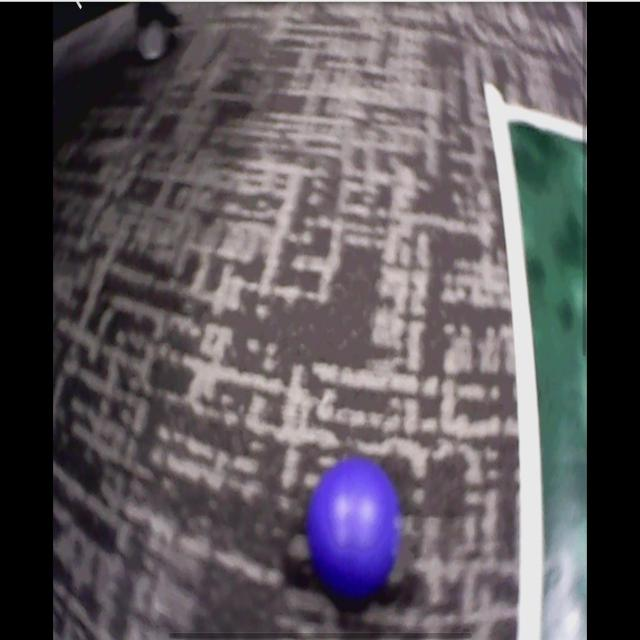ball: (312, 460, 401, 608)
